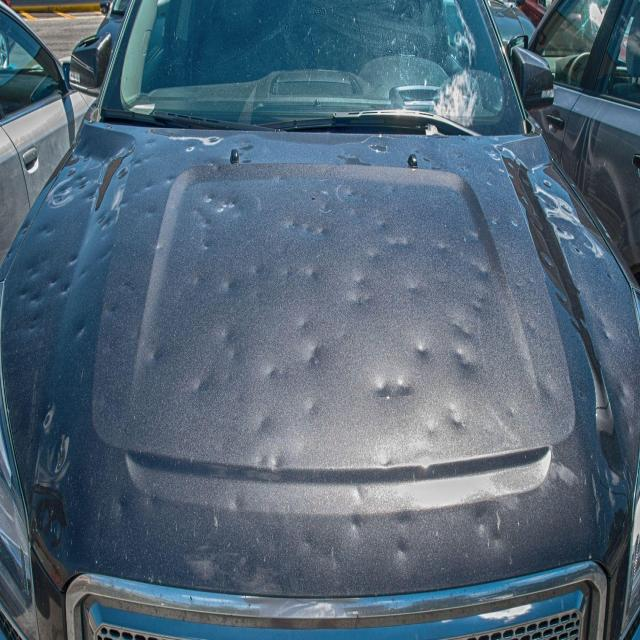dent: (28, 390, 75, 591), (46, 138, 136, 242), (186, 538, 286, 598), (531, 181, 605, 262), (189, 187, 247, 254), (472, 494, 510, 556), (315, 176, 363, 218), (216, 323, 248, 369), (282, 215, 332, 241), (392, 507, 414, 566), (348, 483, 370, 539), (349, 268, 375, 315), (520, 192, 544, 236), (451, 342, 477, 377), (538, 375, 560, 407), (448, 314, 473, 341), (466, 256, 491, 283), (254, 412, 274, 443), (305, 340, 326, 369), (450, 146, 473, 172), (394, 374, 417, 399), (524, 307, 542, 338), (447, 401, 466, 430), (373, 374, 395, 399), (469, 287, 489, 314), (146, 486, 162, 515), (412, 338, 432, 361), (192, 372, 212, 394), (146, 342, 166, 364), (403, 276, 423, 298), (303, 396, 322, 419), (423, 413, 441, 437), (387, 233, 414, 249), (374, 213, 394, 234), (113, 495, 129, 521), (74, 317, 90, 342), (367, 142, 395, 156), (228, 490, 245, 513), (295, 314, 314, 334), (304, 265, 322, 286), (569, 316, 590, 334), (28, 309, 43, 334), (253, 450, 270, 472), (222, 274, 241, 293), (466, 227, 486, 245), (483, 145, 503, 163), (272, 452, 289, 472), (234, 139, 259, 152), (434, 237, 452, 255), (616, 381, 630, 404), (505, 400, 518, 424), (366, 245, 384, 262), (143, 204, 159, 223), (497, 165, 516, 181), (25, 260, 40, 280), (266, 362, 282, 380), (17, 220, 33, 238), (200, 136, 224, 148), (46, 271, 62, 287), (541, 252, 557, 268), (518, 168, 531, 187), (98, 245, 113, 261), (39, 222, 54, 238), (555, 290, 569, 306), (251, 262, 263, 280), (29, 291, 43, 305), (192, 272, 204, 288), (163, 171, 176, 185), (68, 252, 80, 266), (601, 328, 613, 342), (143, 179, 154, 194), (61, 282, 72, 296), (625, 421, 634, 438), (78, 265, 88, 280), (604, 269, 615, 282), (510, 215, 520, 228), (541, 178, 554, 188), (18, 286, 28, 298), (144, 137, 156, 147), (184, 144, 196, 154), (5, 247, 12, 260), (142, 153, 152, 162), (133, 158, 142, 166), (507, 160, 515, 169)
